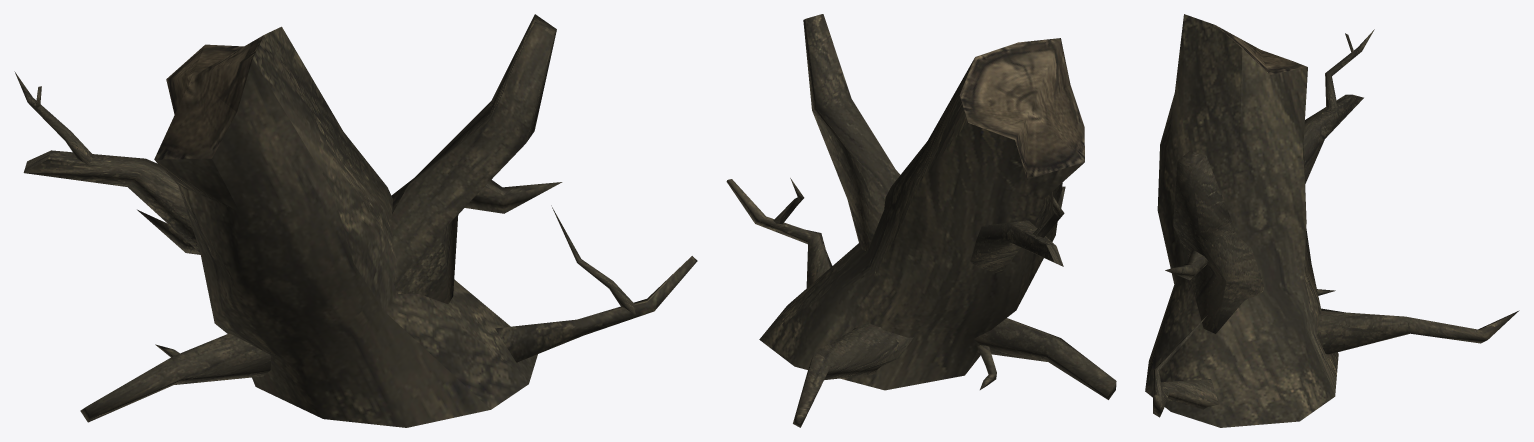
Rendered from s7_fightpve_kushu_ok.FBX.
3 views of the same model, side by side, from view 1: azimuth 30°, elevation 25°; view 2: azimuth 150°, elevation 25°; view 3: azimuth 270°, elevation 25° (orthographic). The views are drawn at different scales.
Visible parts, largest first — view 1: kushu03; view 2: kushu03; view 3: kushu03.
Part boxes in pixels (left/top/right/bottom): kushu03: left=14, top=14, right=697, bottom=427; kushu03: left=726, top=14, right=1116, bottom=427; kushu03: left=1145, top=14, right=1519, bottom=427.
Size of the model in its own units: 0.7684 by 0.5231 by 0.5948.
